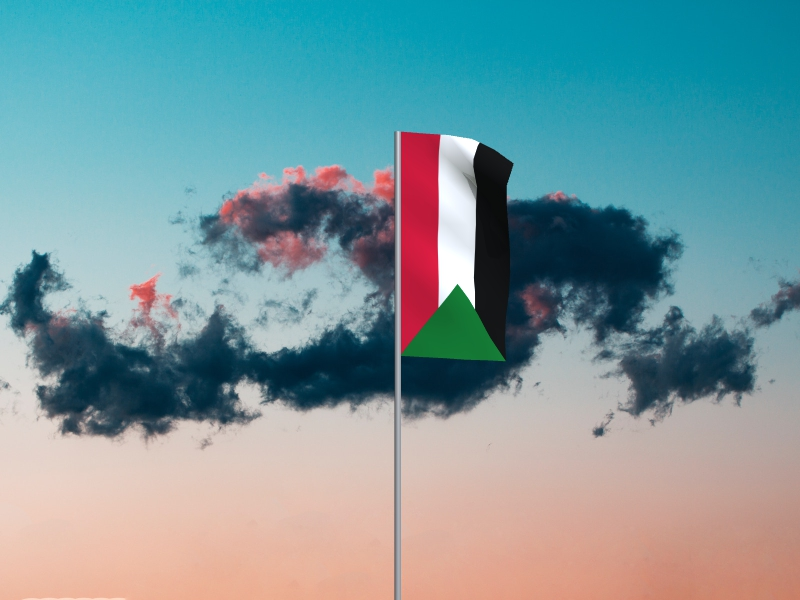sd: (402, 133, 516, 363)
